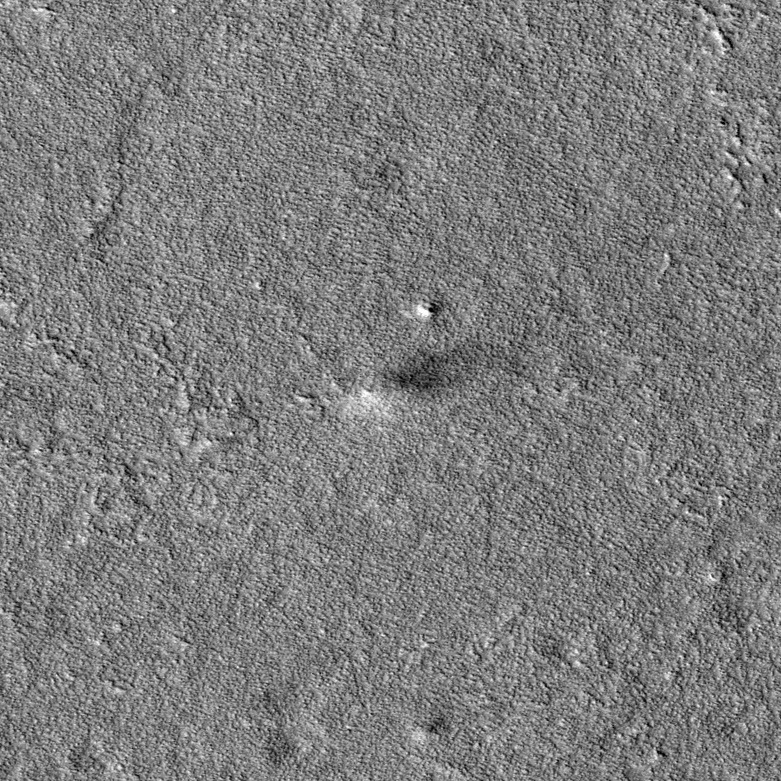dust_devil: (339, 346, 478, 420)
